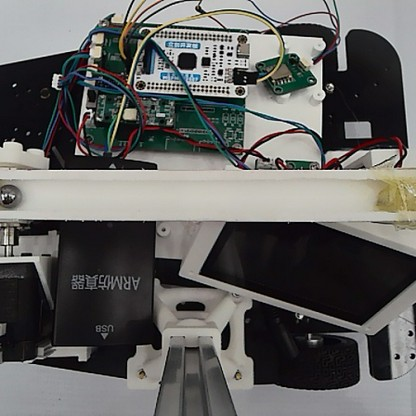ironball: (0, 180, 22, 211)
